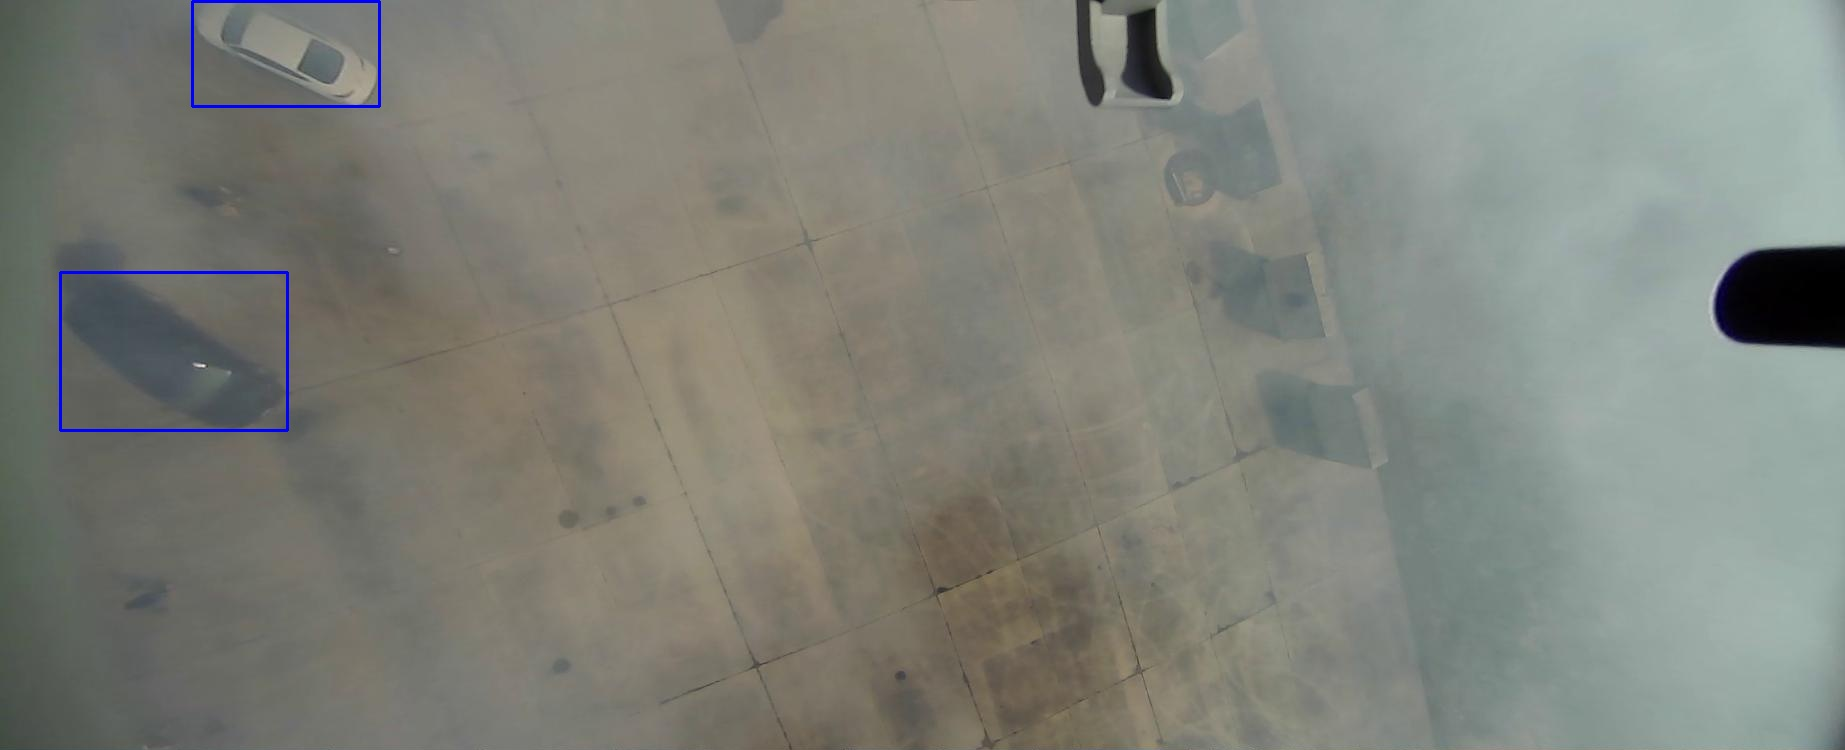vehicle: (272, 60, 429, 287), (1, 192, 106, 379)
